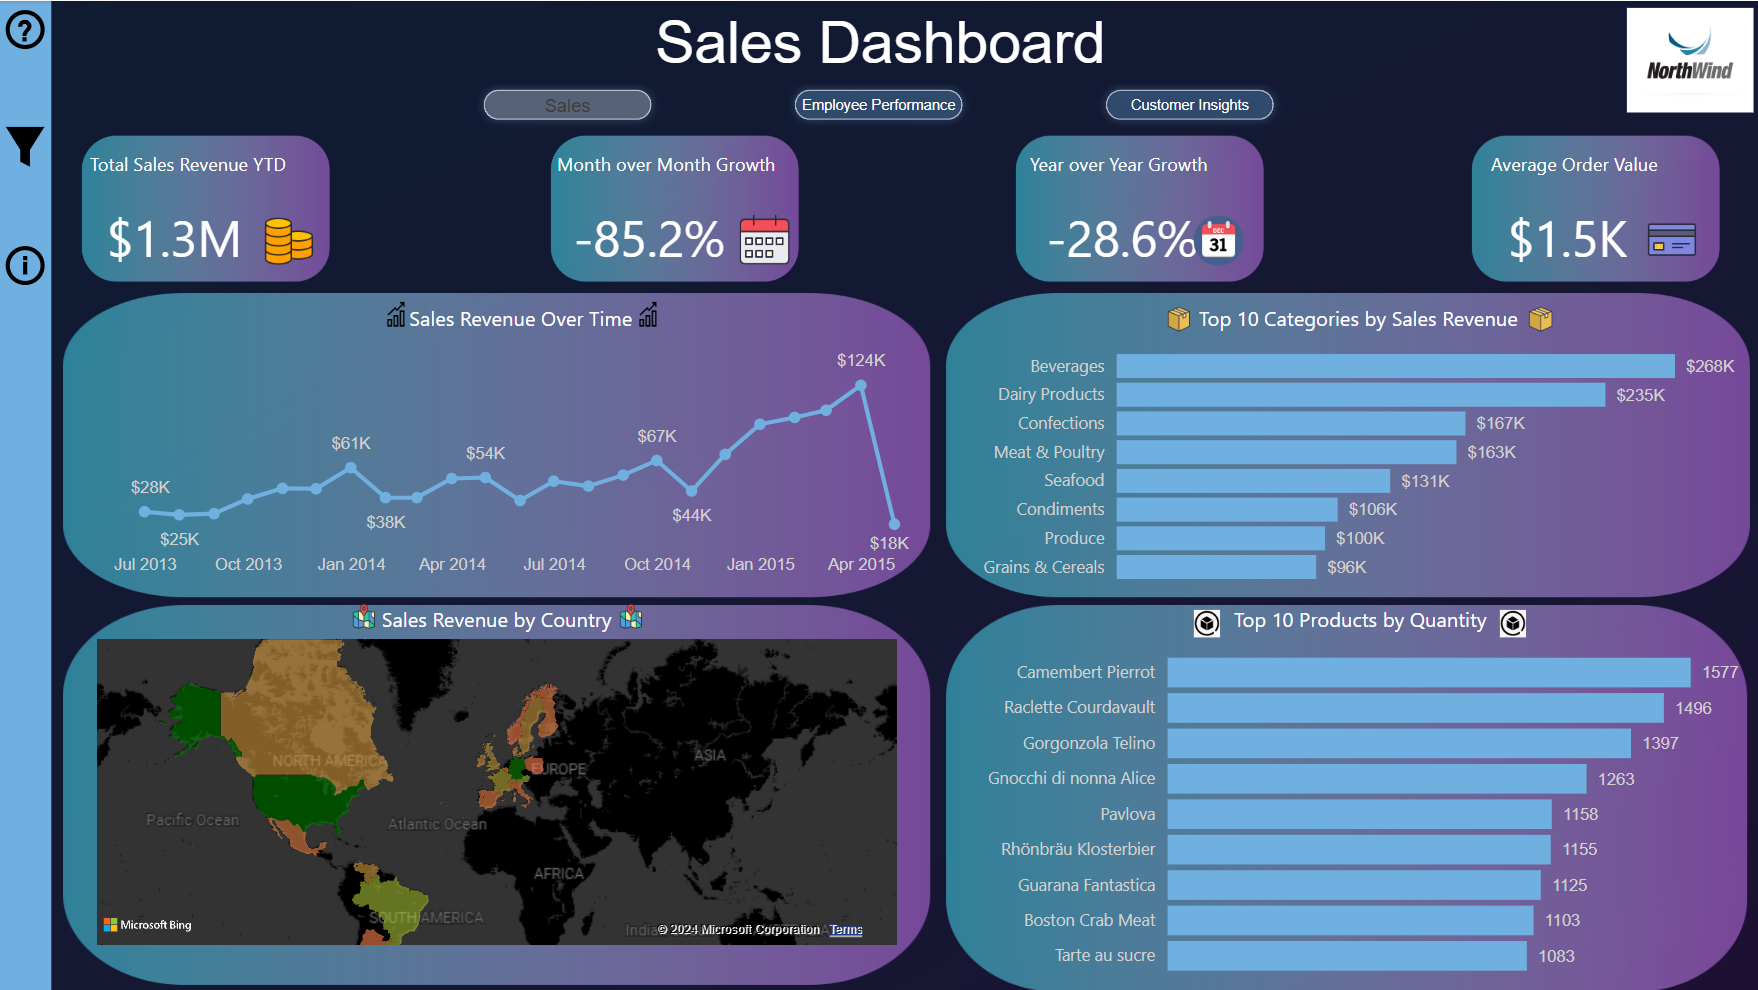

What the dashboard file says about the page in this screenshot:
{"tool":"powerbi","page":{"name":"Sales","canvas":[1280,720],"ordinal":0},"visuals":[{"type":"textbox","title":"Sales Dashboard Title","box":[458.9,0.6,362.5,63.9],"z":0},{"type":"shape","title":"Sidebar container","box":[0,0,38.1,720],"z":1000},{"type":"pageNavigator","box":[345.3,57.7,589.8,36.2],"z":2000},{"type":"image","title":"MoM G container","box":[395.9,67.2,189.7,167.3],"z":3000},{"type":"image","title":"YoY G container","box":[733.4,67.2,189.7,167.3],"z":4000},{"type":"image","title":"AOV container","box":[1065.2,67.2,189.7,167.3],"z":5000},{"type":"image","title":"TotSRYTD container","box":[55.3,67.2,189.7,167.3],"z":6000},{"type":"cardVisual","title":"Year over Year Growth","fields":{"Data":["1. Formulas Table.YoY Growth"]},"box":[743.8,110,191,108.7],"z":7000},{"type":"cardVisual","title":"Average Order Value","fields":{"Data":["1. Formulas Table.Average Order Value"]},"box":[1078.4,110,176.6,108.7],"z":8000},{"type":"image","title":"SRCat container","box":[687.8,212.1,583.7,221.3],"z":9000},{"type":"barChart","title":"Top 10 Categories by Sales Revenue","fields":{"Y":["Sum(order_details.Sales Revenue)"],"Category":["categories.categoryName"]},"box":[704.2,220,567.2,213.4],"z":10000},{"type":"image","title":"Top10CSR container","box":[687.8,438.7,582.4,281.3],"z":11000},{"type":"clusteredBarChart","title":"Top 10 Products by Quantity","fields":{"Category":["products.productName"],"Y":["1. Formulas Table.Total Quantity Sold"]},"box":[704.2,438.7,569.8,281.3],"z":12000},{"type":"cardVisual","title":"Month over Month Growth","fields":{"Data":["1. Formulas Table.MoM Growth"]},"box":[400.5,110,191,107.4],"z":13000},{"type":"cardVisual","title":"Total Sales Revenue YTD","fields":{"Data":["Sum(order_details.Sales Revenue)"]},"box":[61.3,110,191,108],"z":14000},{"type":"image","title":"SROT container","box":[46.8,212.1,629.8,221.3],"z":15000},{"type":"lineChart","title":"Sales Revenue Over Time","fields":{"Y":["Sum(order_details.Sales Revenue)"],"Category":["Date.Calendar.Year","Date.Calendar.Quarter","Date.Calendar.Month","Date.Calendar.Date"]},"box":[77.7,220,602.8,205.5],"z":16000},{"type":"image","title":"SRC container","box":[46.8,438.7,629.8,276],"z":17000},{"type":"filledMap","title":"Sales Revenue by Country","fields":{"Category":["customers.country"]},"box":[65.9,438.7,590.9,252.3],"z":18000},{"type":"image","title":"SRCat imgL","box":[844.1,217.2,26.5,27.8],"z":19000},{"type":"image","title":"SRCat imgR","box":[1106.3,217.2,27.1,27.8],"z":20000},{"type":"image","title":"SRC imgR","box":[445.7,433.2,26.2,28.1],"z":21000},{"type":"image","title":"SRC imgL","box":[251.8,433.2,26.2,28.1],"z":22000},{"type":"image","title":"SROT imgR","box":[458.2,213.8,26.2,28.1],"z":23000},{"type":"image","title":"SROT imgL","box":[275.5,213.8,26.2,28.1],"z":24000},{"type":"image","title":"YoY Growth img","box":[862.8,150.9,45.5,45.5],"z":25000},{"type":"image","title":"MoM Growth img","box":[533,150.2,45.5,45.5],"z":26000},{"type":"actionButton","title":"Help Button Image","box":[0,0.6,38,39.9],"z":27000},{"type":"actionButton","title":"Information Button Image","box":[0,172.1,38,39.9],"z":28000},{"type":"image","title":"Filter Button Image","box":[0,86.6,38,39.3],"z":29000},{"type":"image","title":"Total Sales YTD Icon","box":[188,151.6,45,45],"z":30000},{"type":"image","title":"AVG Order Val icon","box":[1193,151,45,45],"z":31000},{"type":"image","title":"Top 10 Pby Q Icon","box":[862.7,437,29.8,29.8],"z":32000},{"type":"image","title":"Top 10 Pby Q Icon","box":[1085.1,437,29.8,29.8],"z":33000},{"type":"actionButton","title":"Slicer Pane Button","box":[0,85.9,37.9,39.9],"z":34000},{"type":"image","title":"Northwind Traders Icon","box":[1177.6,0,102.4,85.7],"z":36000},{"type":"actionButton","title":"Context Pane Button","box":[0,0.7,37.7,39.7],"z":37000},{"type":"actionButton","title":"Contact Pane Button","box":[0,172.2,37.8,39.2],"z":39000}]}

Visuals, with their boxes in screenshot pixels (x1, y1, x2, y2), scaled from the page's 1280x720 canvas onto the 1758x990 screenshot:
"Sales Dashboard Title" textbox: 630 1 1128 89
"Sidebar container" shape: 0 0 52 989
pageNavigator: 474 79 1284 129
"MoM G container" image: 544 92 804 322
"YoY G container" image: 1007 92 1268 322
"AOV container" image: 1463 92 1724 322
"TotSRYTD container" image: 76 92 336 322
"Year over Year Growth" cardVisual: 1022 151 1284 301
"Average Order Value" cardVisual: 1481 151 1724 301
"SRCat container" image: 945 292 1746 596
"Top 10 Categories by Sales Revenue" barChart: 967 302 1746 596
"Top10CSR container" image: 945 603 1745 989
"Top 10 Products by Quantity" clusteredBarChart: 967 603 1750 989
"Month over Month Growth" cardVisual: 550 151 812 299
"Total Sales Revenue YTD" cardVisual: 84 151 347 300
"SROT container" image: 64 292 929 596
"Sales Revenue Over Time" lineChart: 107 302 935 585
"SRC container" image: 64 603 929 983
"Sales Revenue by Country" filledMap: 91 603 902 950
"SRCat imgL" image: 1159 299 1196 337
"SRCat imgR" image: 1519 299 1557 337
"SRC imgR" image: 612 596 648 634
"SRC imgL" image: 346 596 382 634
"SROT imgR" image: 629 294 665 333
"SROT imgL" image: 378 294 414 333
"YoY Growth img" image: 1185 207 1247 270
"MoM Growth img" image: 732 207 795 269
"Help Button Image" actionButton: 0 1 52 56
"Information Button Image" actionButton: 0 237 52 292
"Filter Button Image" image: 0 119 52 173
"Total Sales YTD Icon" image: 258 208 320 270
"AVG Order Val icon" image: 1639 208 1700 270
"Top 10 Pby Q Icon" image: 1185 601 1226 642
"Top 10 Pby Q Icon" image: 1490 601 1531 642
"Slicer Pane Button" actionButton: 0 118 52 173
"Northwind Traders Icon" image: 1617 0 1757 118
"Context Pane Button" actionButton: 0 1 52 56
"Contact Pane Button" actionButton: 0 237 52 291
